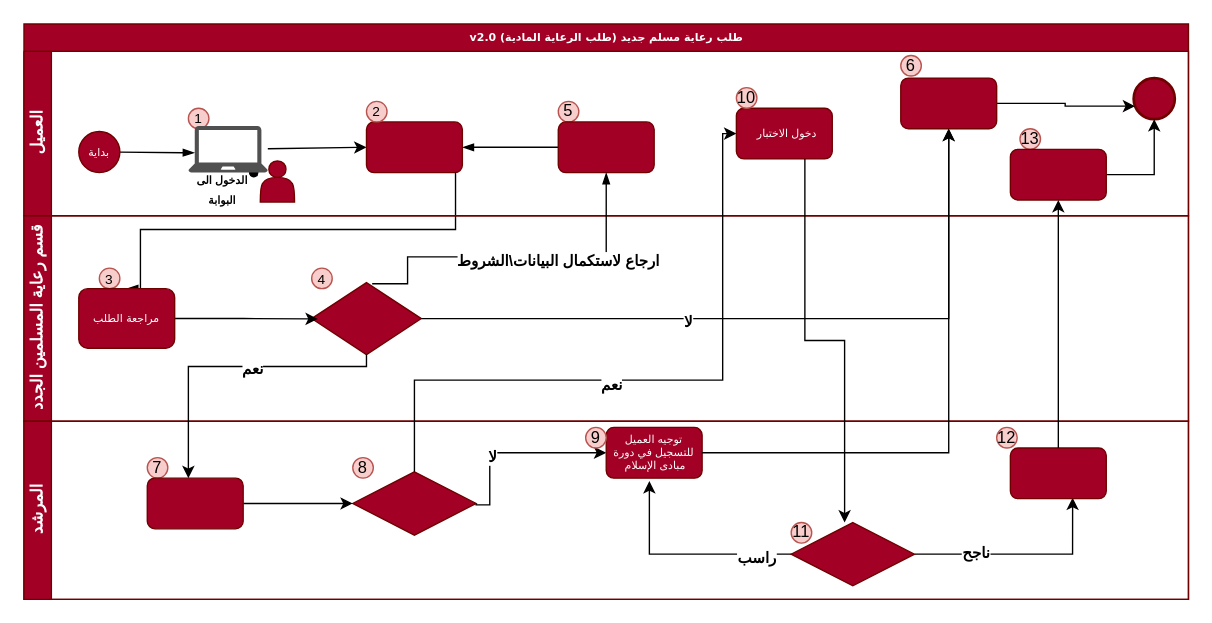
The diagram is 1212 pixels wide and 623 high, and some of its shapes have lost their labels. The centre of each missing label's shape, as x and y in pixels:
"إصدار شهادة لمن يهمه الأمر وإرسالها" belongs at (x=1057, y=473).
"إلمام المتعامل بمبادئ الإسلام" belongs at (x=413, y=502).
"اخطار العميل بالموافقة" belongs at (x=1057, y=174).
"استكمال البيانات و إعادة ارساله" belongs at (x=605, y=147).
"استلام الطلب" belongs at (x=194, y=503).
"اغلاق" belongs at (x=1153, y=98).
"تعبئة وتقديم نموذج طلب الرعاية المادية" belongs at (x=413, y=147).
"ر سالة إعتذار للعميل" belongs at (x=948, y=103).
"موافقة؟" belongs at (x=365, y=318).
"نتيجة الاختبار" belongs at (x=852, y=553).
